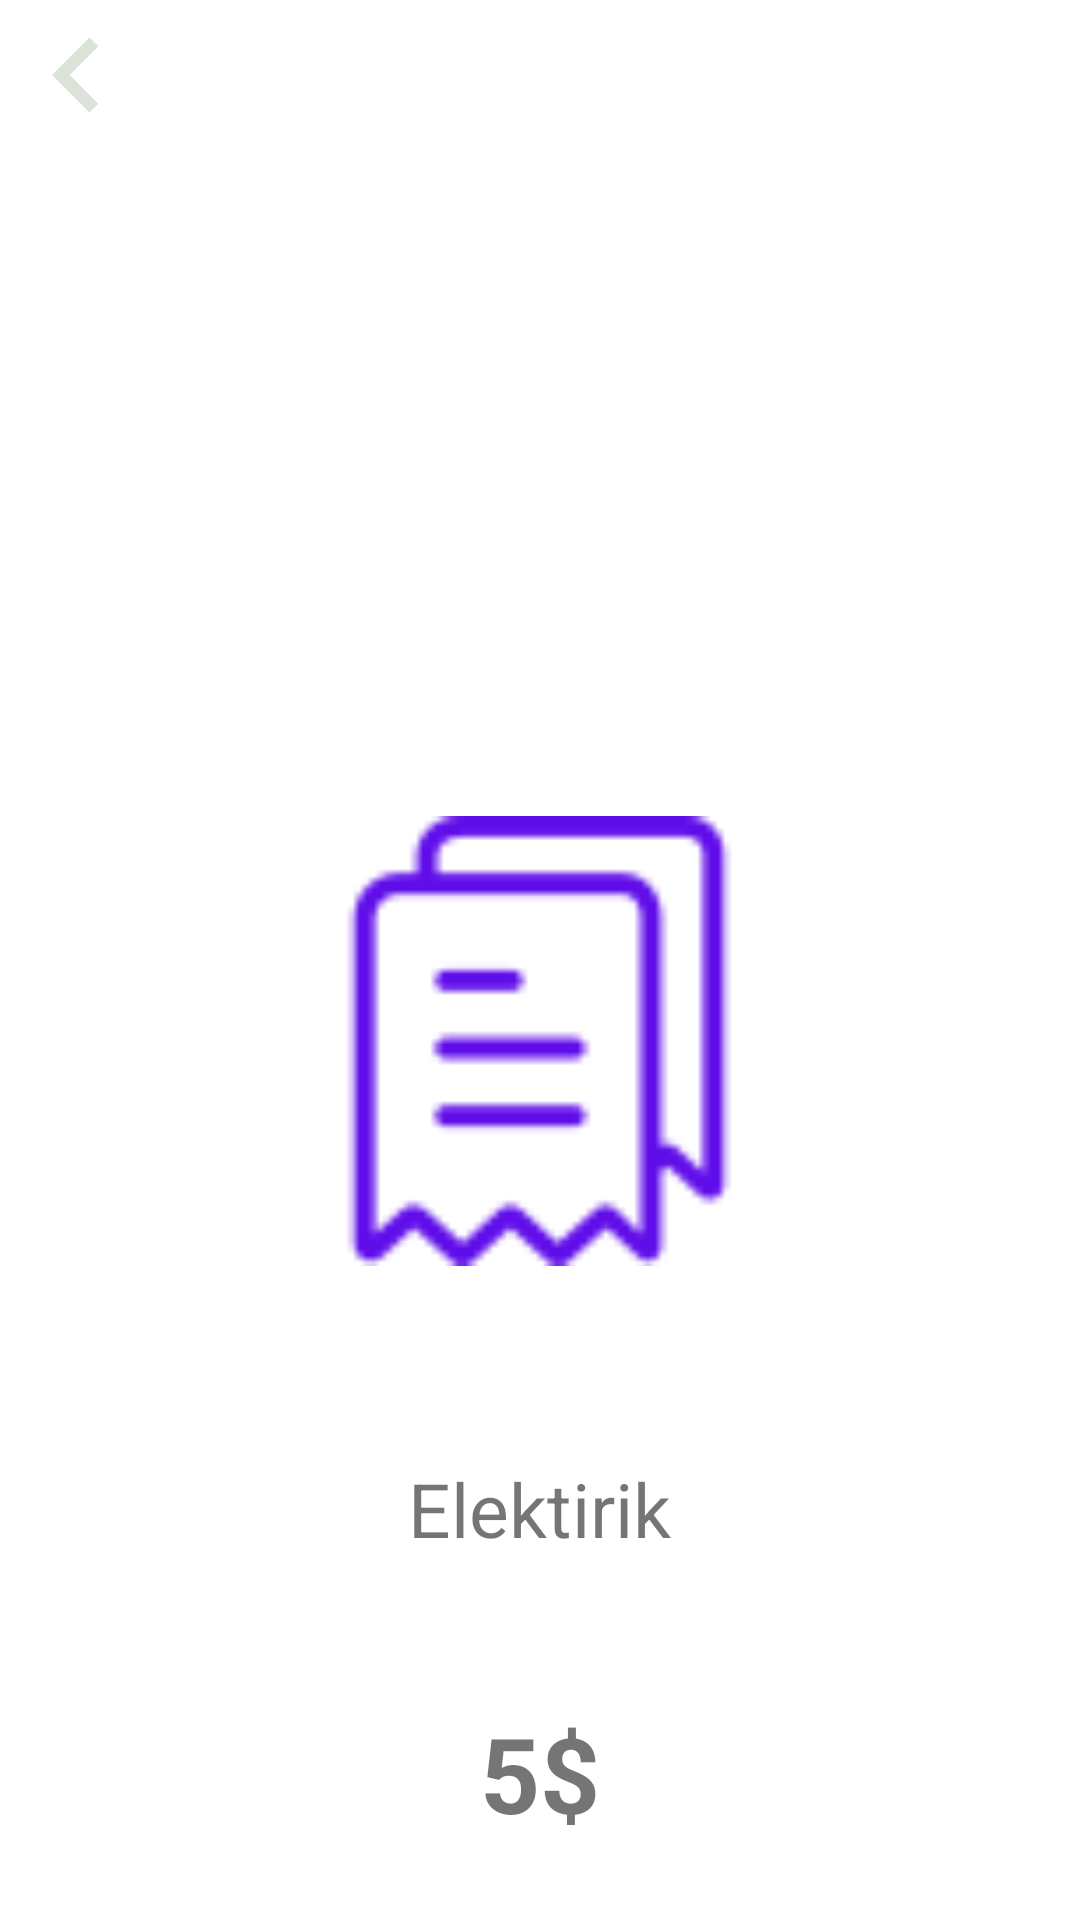

Icons on this 1080 × 1920 Android screen, each with its box as [x1=x1, y1=y1, x2=x2, y2=y2]:
back: [x1=53, y1=38, x2=98, y2=112]
